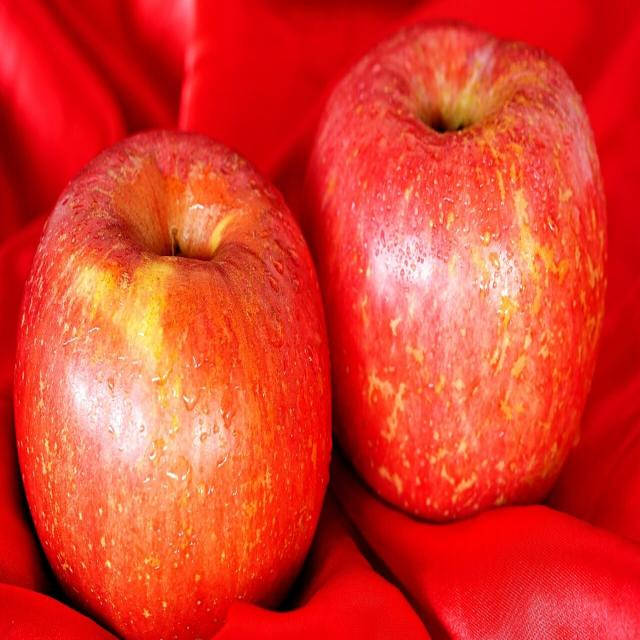manzana: (11, 110, 352, 638)
